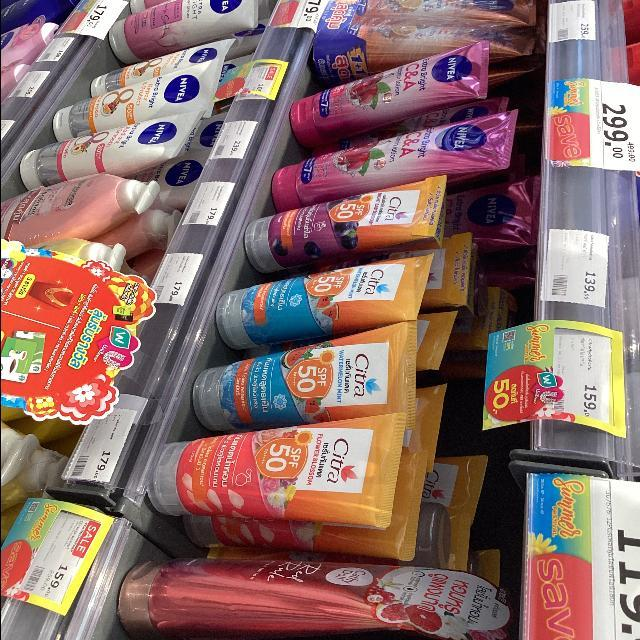Squeeze Tube: (244, 23, 535, 610), (115, 554, 472, 637), (141, 417, 405, 526), (222, 253, 433, 361), (268, 110, 518, 201), (291, 42, 492, 150), (199, 328, 422, 423), (253, 179, 437, 267)
